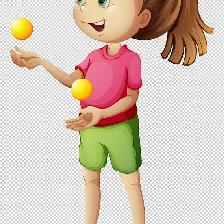YellowBall: (9, 17, 32, 40), (70, 77, 92, 99)
